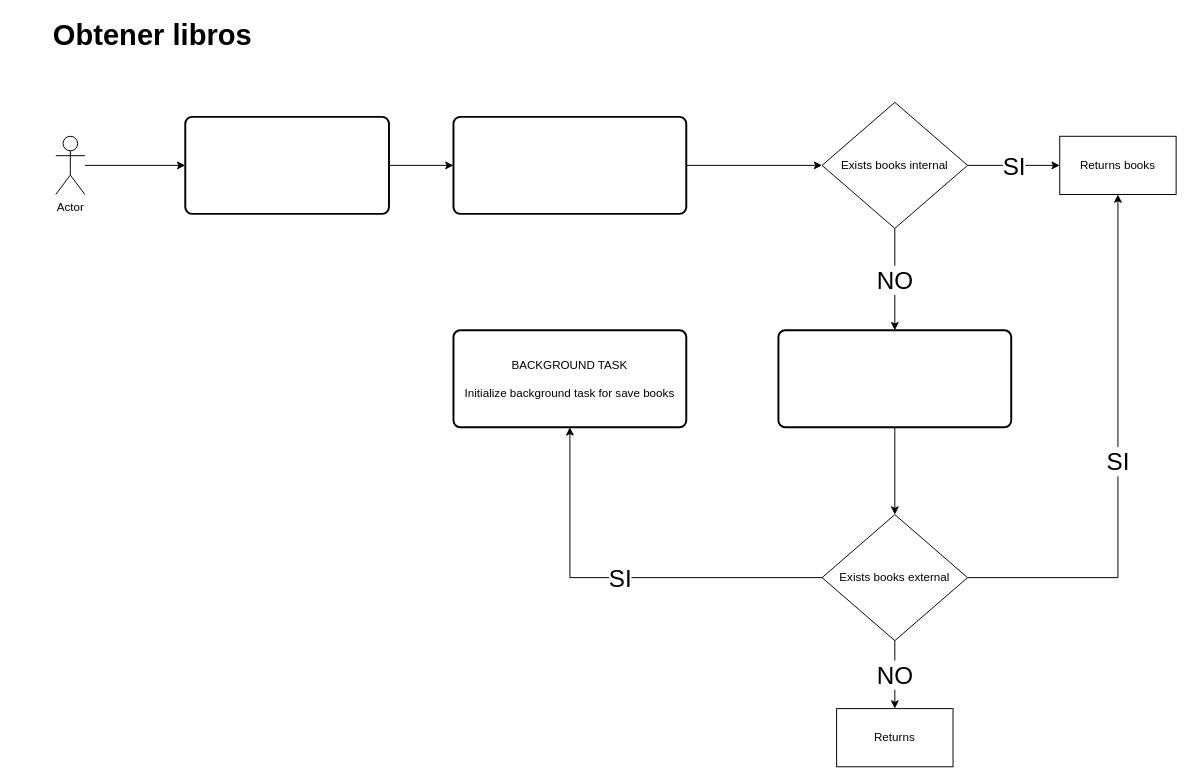
Image size: 1193x784. Some labels were removed from this diagram. The centre of each missing label's shape, as x and y in pixels:
EndPoint Get Books GET http://0.0.0.0:5000/books: the point at 286,164
Repository Get Books external OPEN API( Google Books, OpenLibra ): the point at 894,378
Repository Get Books internal Postgres SQL: the point at 569,164
